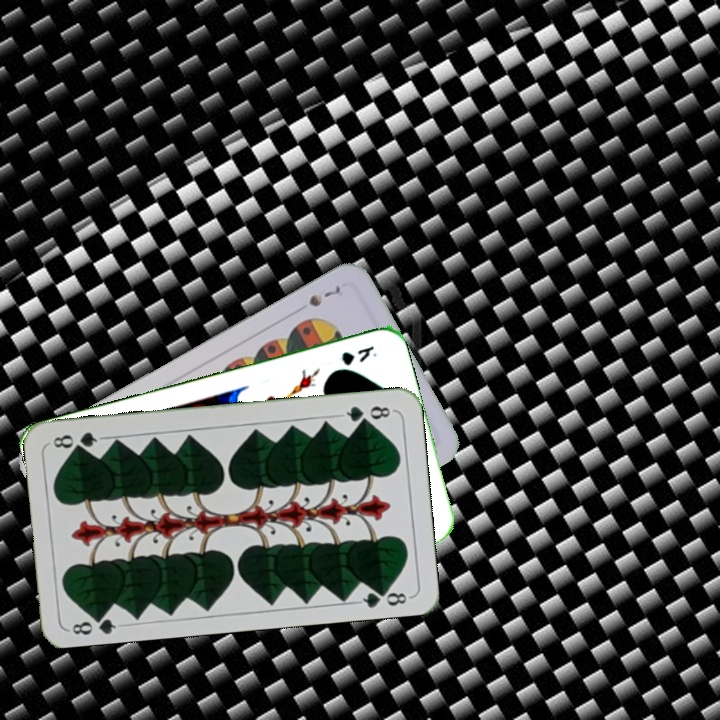G8: (65, 608, 125, 638), (337, 401, 396, 426)
GK: (337, 341, 379, 368)
S7: (305, 281, 347, 310)
